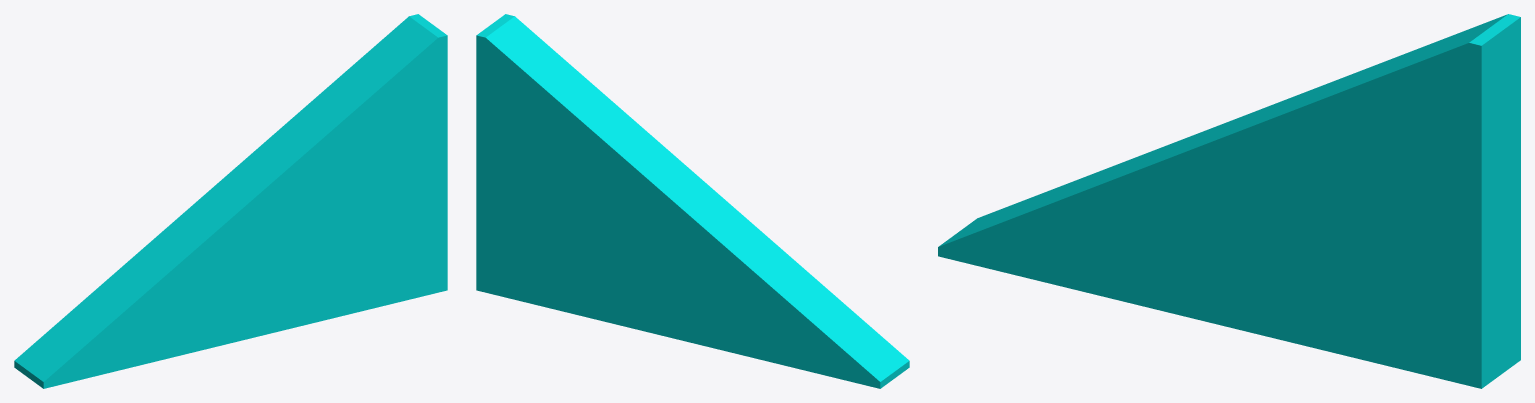
File: SM_Bld_Stairs_L_01_Collision.fbx
The picture shows the model from 3 angles, left to right: view 1: azimuth 30°, elevation 25°; view 2: azimuth 150°, elevation 25°; view 3: azimuth 330°, elevation 25°; orthographic projection. The views are drawn at different scales.
Parts seen in each view (by area): view 1: SM_Bld_Stairs_L_01_Collision; view 2: SM_Bld_Stairs_L_01_Collision; view 3: SM_Bld_Stairs_L_01_Collision.
Boxes of the visible parts, x1=… form: SM_Bld_Stairs_L_01_Collision: x1=14, y1=14, x2=447, y2=388; SM_Bld_Stairs_L_01_Collision: x1=476, y1=14, x2=909, y2=388; SM_Bld_Stairs_L_01_Collision: x1=938, y1=14, x2=1520, y2=388.
Size of the model in its own units: 995 by 600 by 125.
